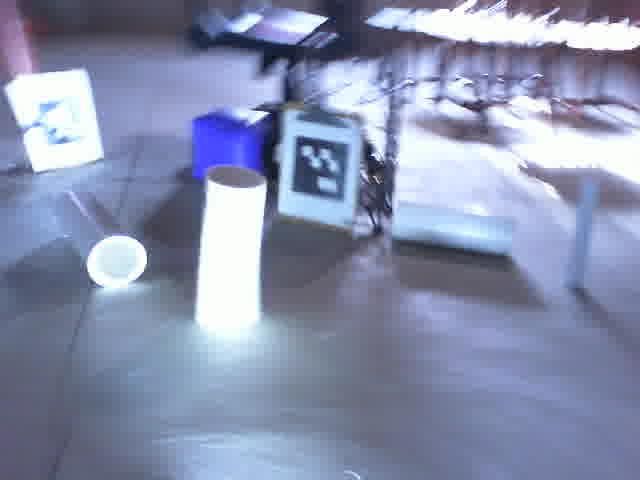coral: (194, 161, 271, 338), (54, 181, 152, 296), (393, 198, 516, 260)
